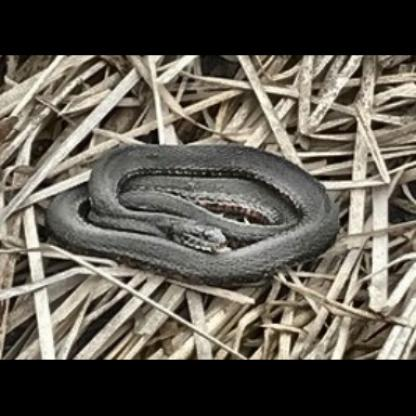Snake: (50, 140, 344, 287)
